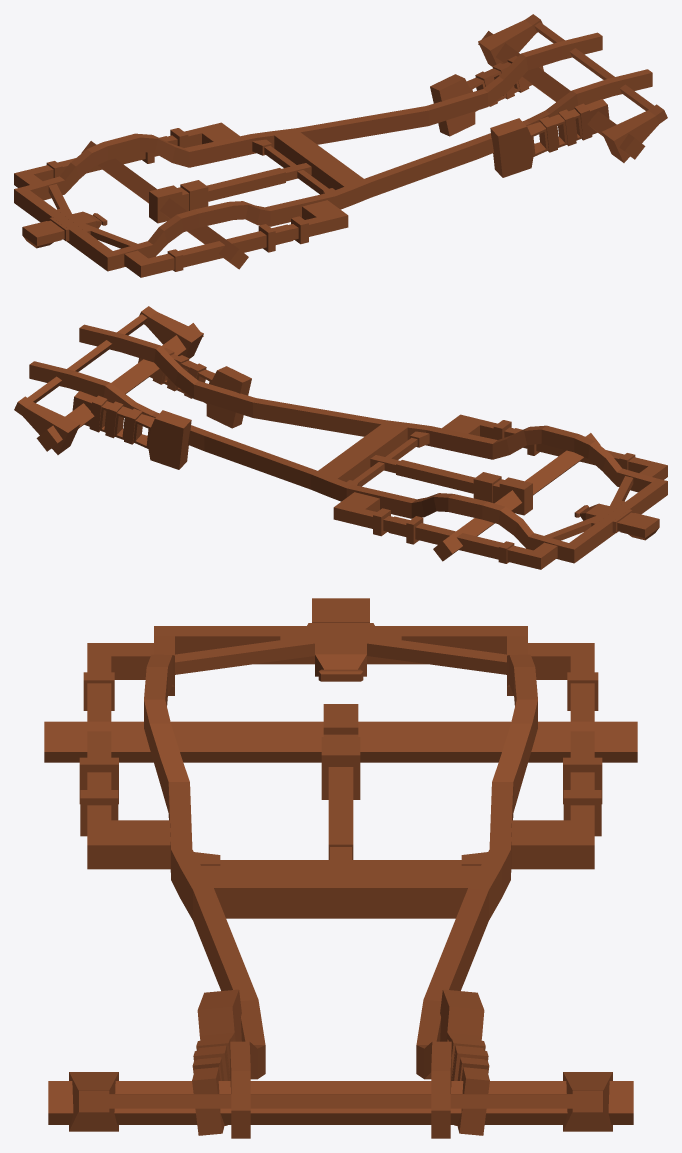
Rendered from Car_Underside1.fbx.
3 views of the same model, one above another, from view 1: azimuth 30°, elevation 25°; view 2: azimuth 150°, elevation 25°; view 3: azimuth 270°, elevation 25° (orthographic). The views are drawn at different scales.
Visible parts, largest first — view 1: Car_underside1; view 2: Car_underside1; view 3: Car_underside1.
Part boxes in pixels (x1,y1,x2,y2): Car_underside1: (14, 14, 667, 277); Car_underside1: (14, 306, 667, 569); Car_underside1: (44, 598, 637, 1138).
Bounding box in the file's own units: 176 × 408 × 42.69.
